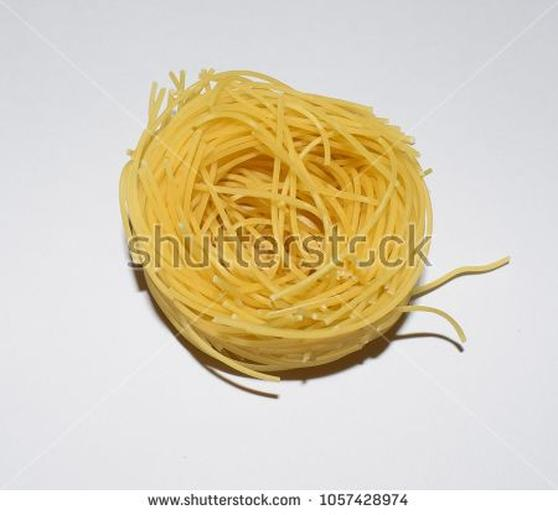spaghetti: (115, 59, 512, 387)
